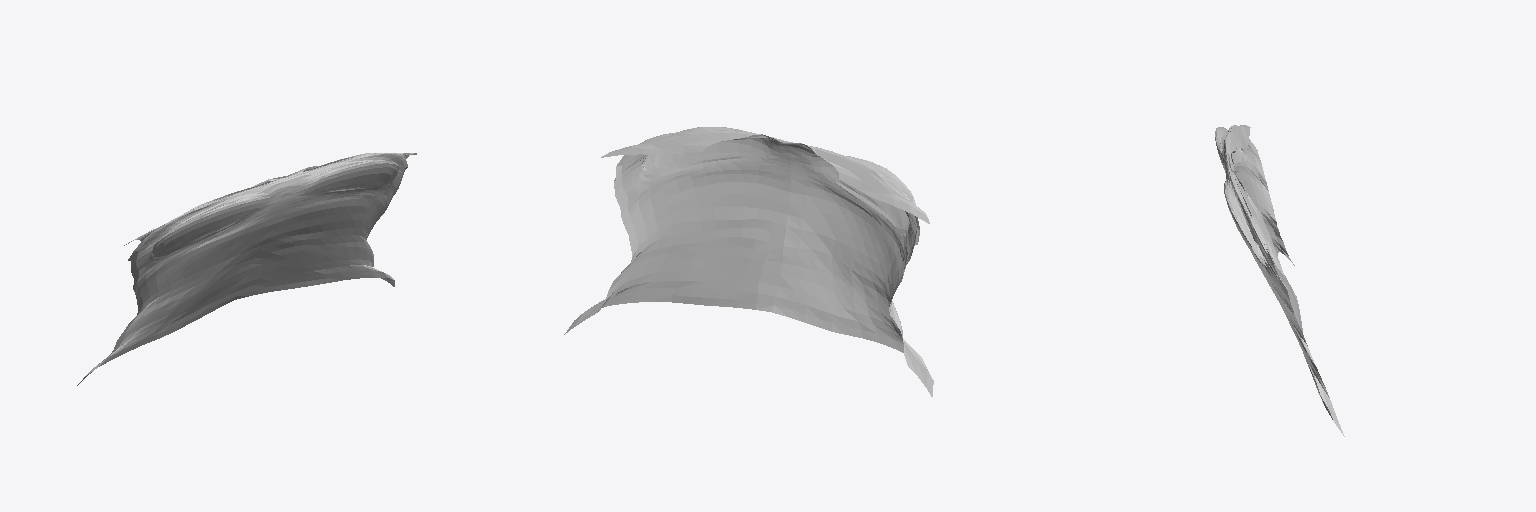
Rendered from deformed_alpha_7_ModelRot.obj.
The picture shows the model from 3 angles: view 1: azimuth 30°, elevation 25°; view 2: azimuth 150°, elevation 25°; view 3: azimuth 270°, elevation 25°; orthographic projection.
Size of the model in its own units: 0.6904 by 0.3763 by 0.227.